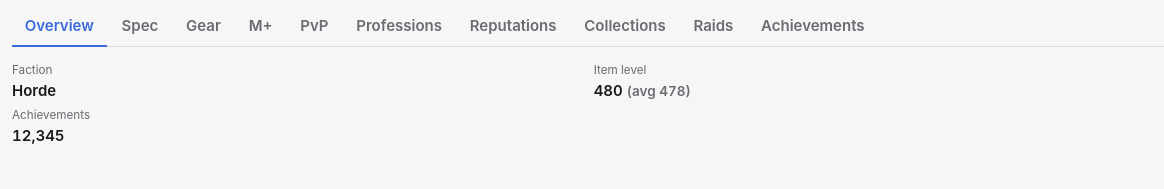
Test: CharacterDetail › lazily fetches PvP only when the PvP tab is selected, rendering summary + a battleground row
Step 1. Click the tab "PvP" → (314, 27), box [288,8,341,47]
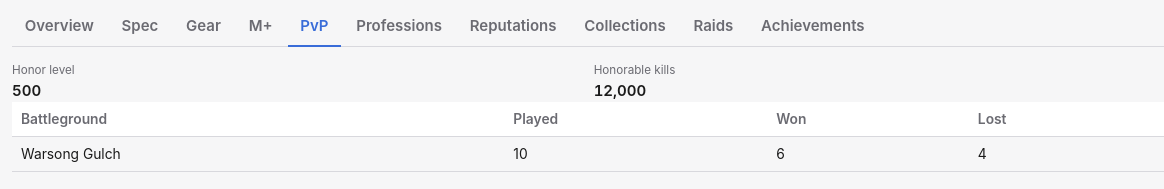
Result: the text "Warsong Gulch" is shown at [12,137,504,172]
Result: the text "500" is shown at [12,80,41,100]
Result: the text "12,000" is shown at [594,80,646,100]
